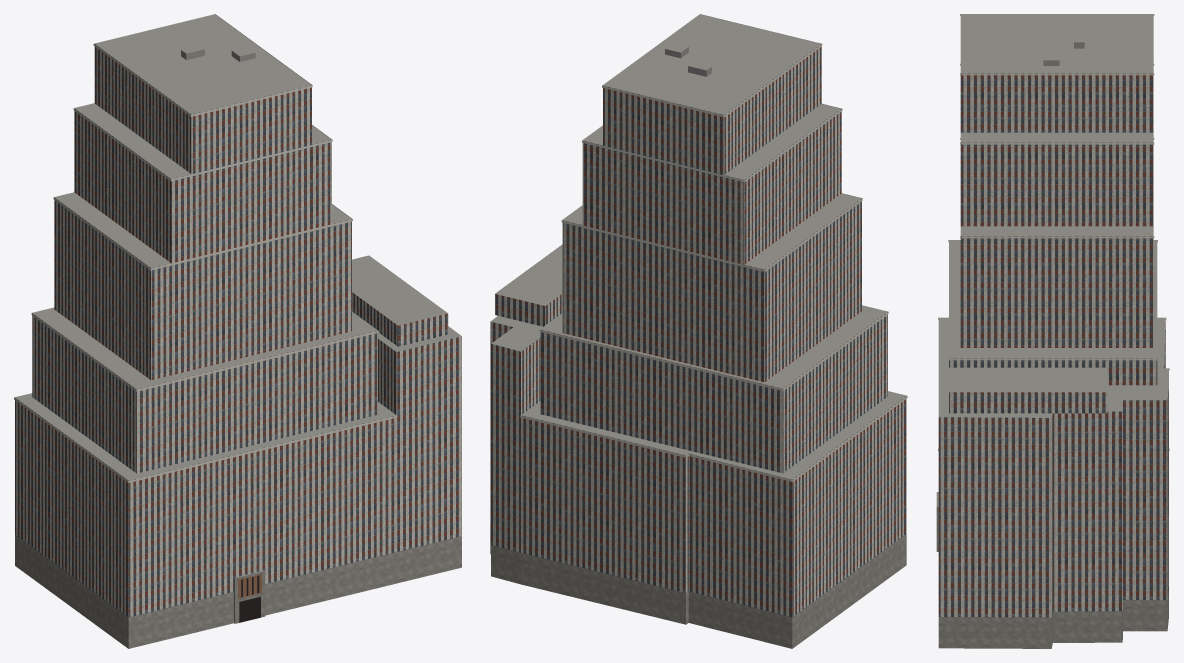
File: daily_news_building.glb
3 renders of one model, left to right at view 1: azimuth 30°, elevation 25°; view 2: azimuth 150°, elevation 25°; view 3: azimuth 270°, elevation 25°, orthographic.
Visible parts, largest first — view 1: daily_news_building; view 2: daily_news_building; view 3: daily_news_building.
Part boxes in pixels (bbox=[...]): daily_news_building: bbox=[14, 14, 461, 648]; daily_news_building: bbox=[490, 14, 907, 648]; daily_news_building: bbox=[936, 14, 1169, 648].
Bounding box in the file's own units: 100 × 147 × 60.41.
Materials: 3 (3 with a texture image).
